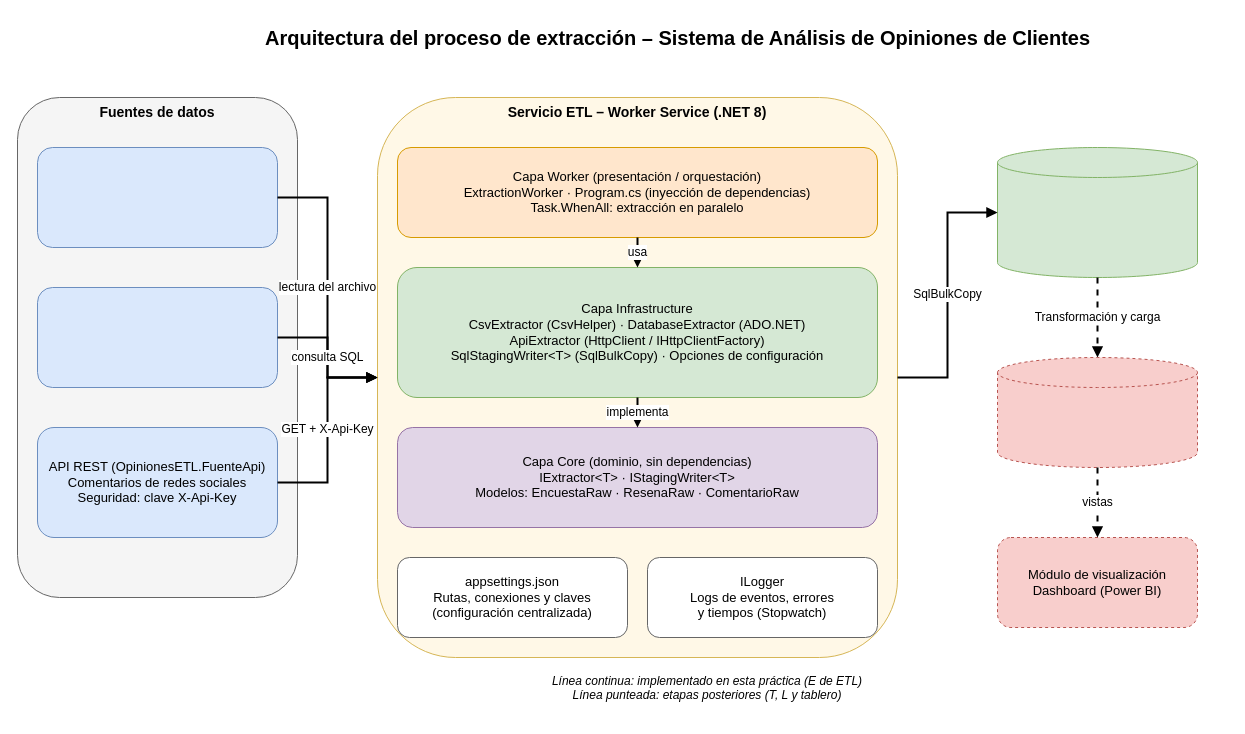
Image size: 1245x734. Some labels were removed from this diagram. Each missing label, with the centre of its shape:
"Base de datos analítica OpinionesDW (modelo estrella)" goes at point (1097, 412).
"Base de datos relacional SitioWebDB (SQL Server) Reseñas web" goes at point (157, 337).
"CSV Encuestas internas (surveys_part1.csv)" goes at point (157, 197).
"StagingDB stg.EncuestaRaw stg.ResenaRaw stg.ComentarioRaw" goes at point (1097, 212).
